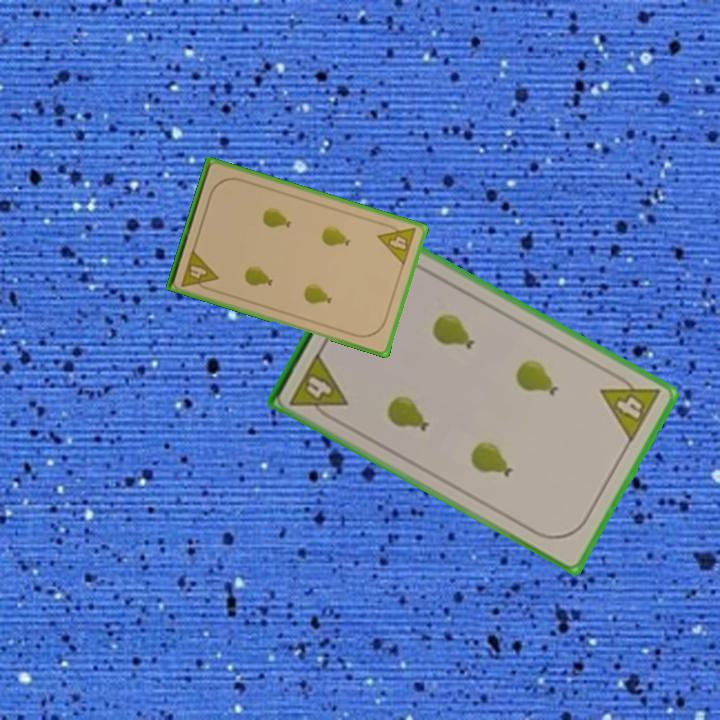4p: (597, 367, 664, 446), (286, 348, 351, 425), (374, 219, 419, 268), (178, 246, 221, 294)
